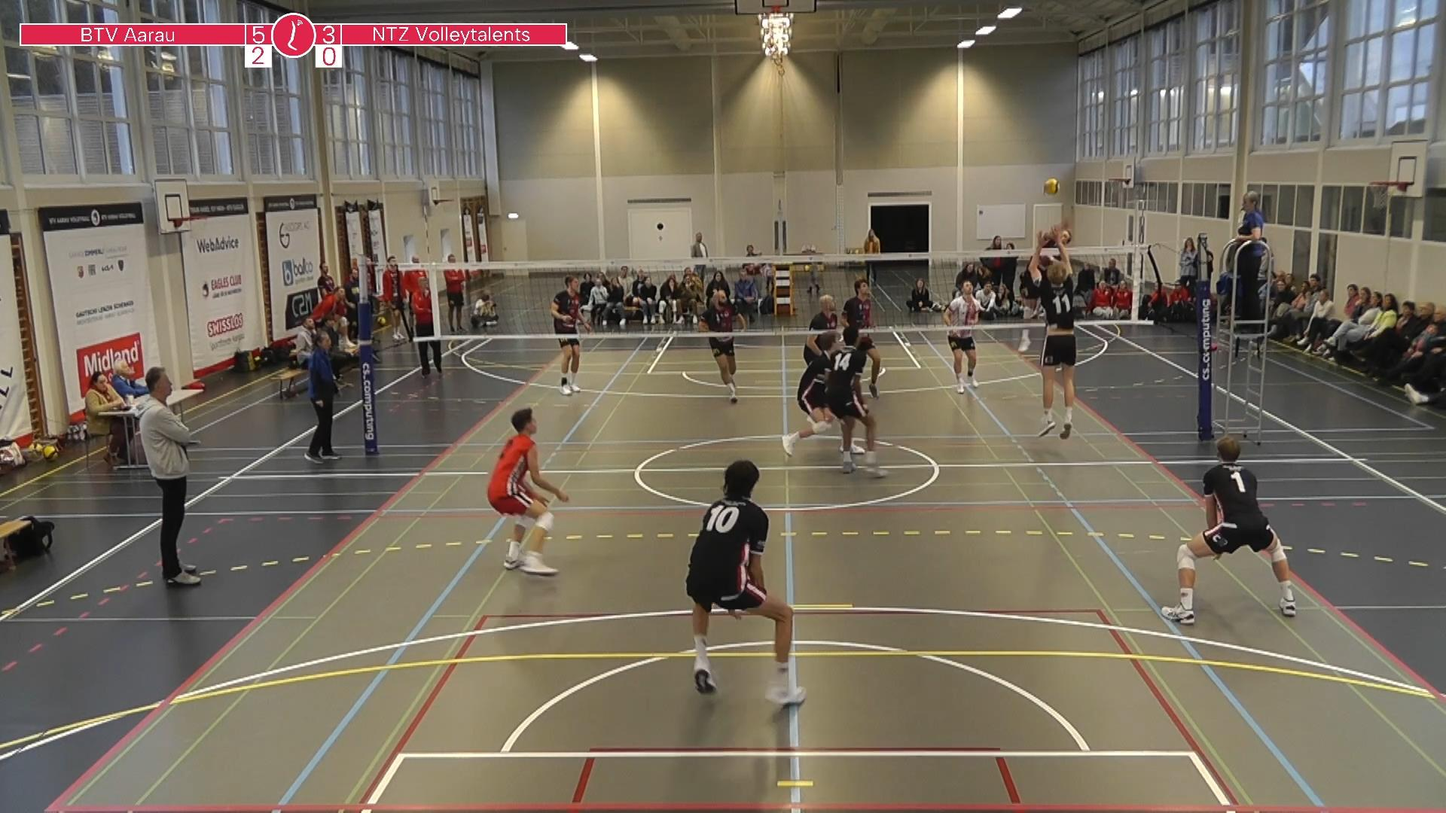attacco: (1005, 217, 1056, 361)
muro: (1028, 228, 1083, 438)
